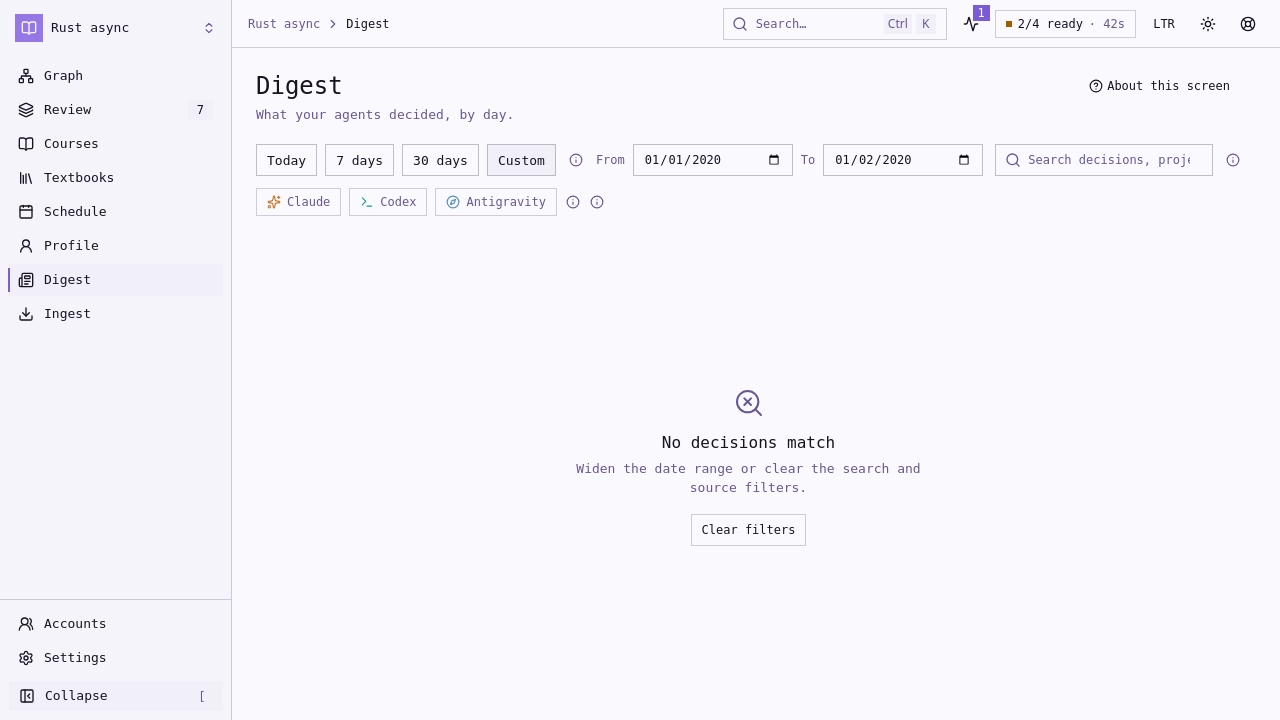
Scenario: Digest filters (URL-backed) › offers a custom range with date inputs
Expected: the element with test id "digest-custom-range" is shown, [596, 144, 983, 176]
Expected: the date field with test id "digest-from" holds "2020-01-01", [633, 144, 793, 176]
Step 1. Click the button with test id "digest-clear-filters" → (748, 530), box [690, 514, 806, 546]
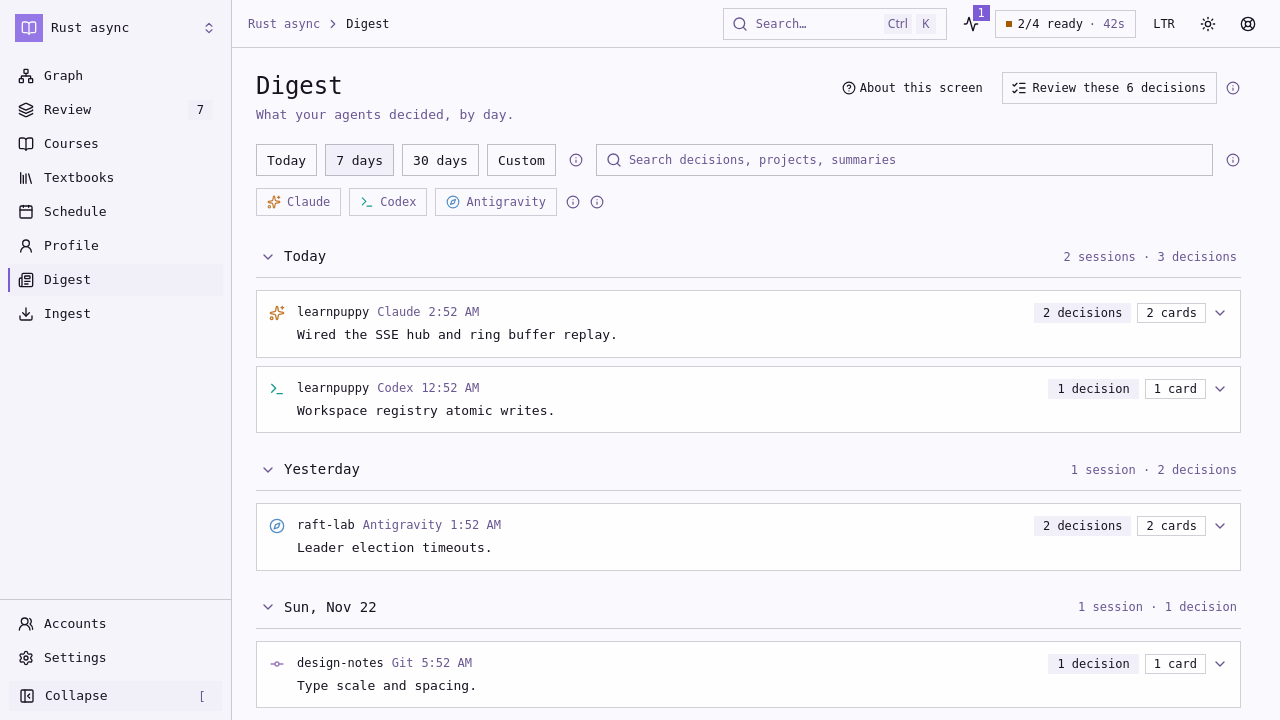
Now the element with test id "digest-days" is shown, box [256, 236, 1241, 719]
